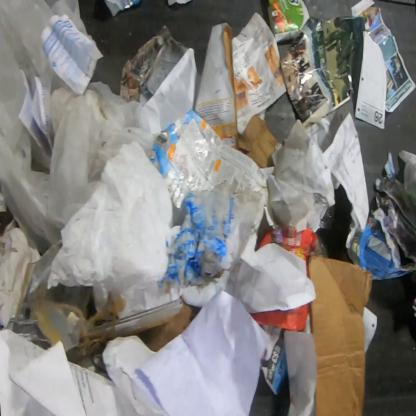cardboard: (148, 107, 276, 235), (308, 255, 373, 415), (235, 114, 280, 168)
soft_plastic: (0, 0, 156, 257), (156, 191, 260, 291)
